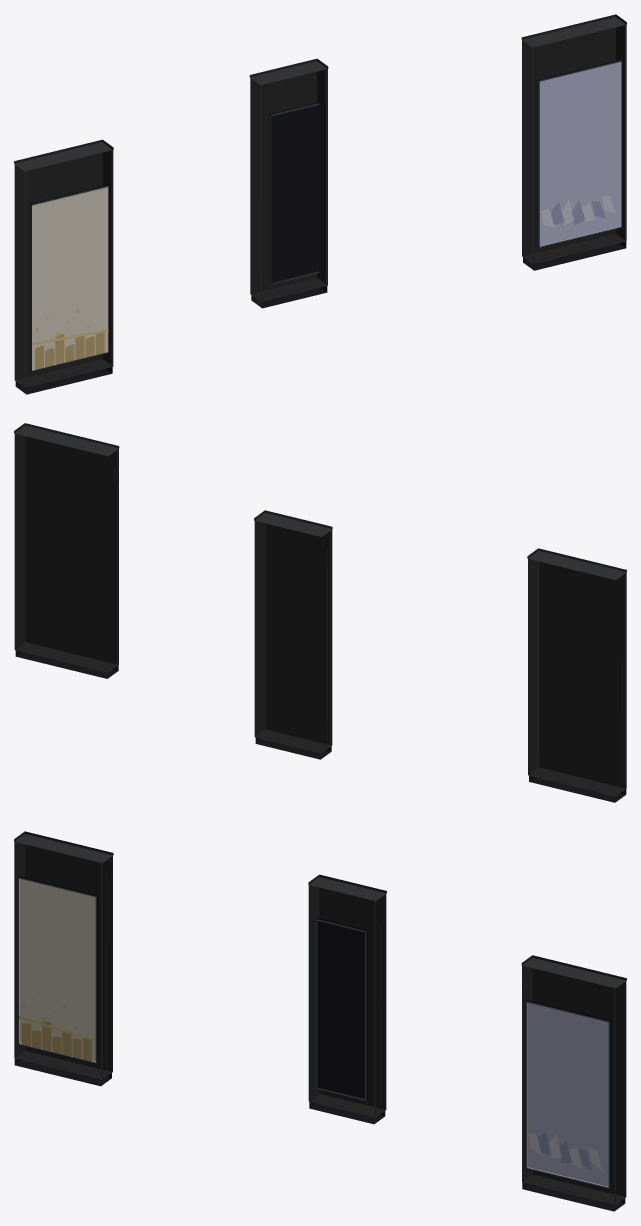
File: departure-portal.glb
3 renders of one model, top to bottom at view 1: azimuth 30°, elevation 25°; view 2: azimuth 150°, elevation 25°; view 3: azimuth 330°, elevation 25°, orthographic.
Visible parts, largest first — view 1: Housing, Lightboxes; view 2: Housing; view 3: Housing, Lightboxes.
Part boxes in pixels (box(x1,y1,x2,y2)): Housing: box(14, 14, 626, 394); Lightboxes: box(32, 62, 621, 370); Housing: box(14, 423, 626, 802); Housing: box(14, 831, 626, 1211); Lightboxes: box(19, 878, 608, 1187).
Bounding box in the file's own units: 8.28 × 2.96 × 0.9885.
